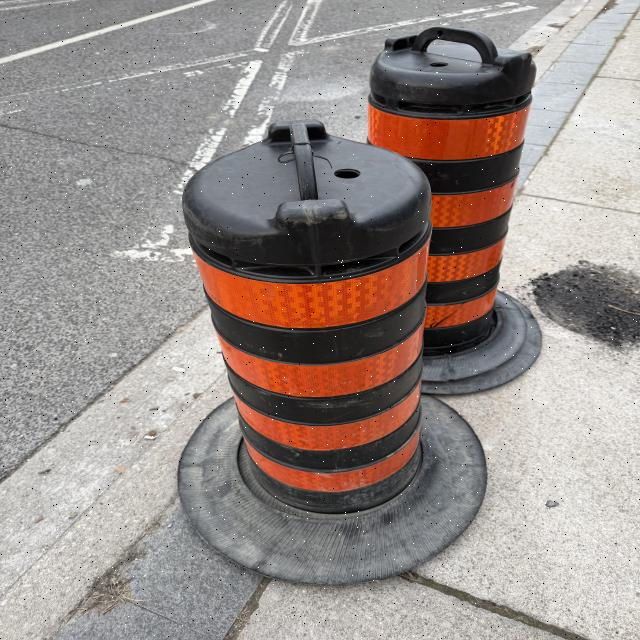Teraffic Barrel: (179, 121, 485, 584), (368, 27, 541, 393)
